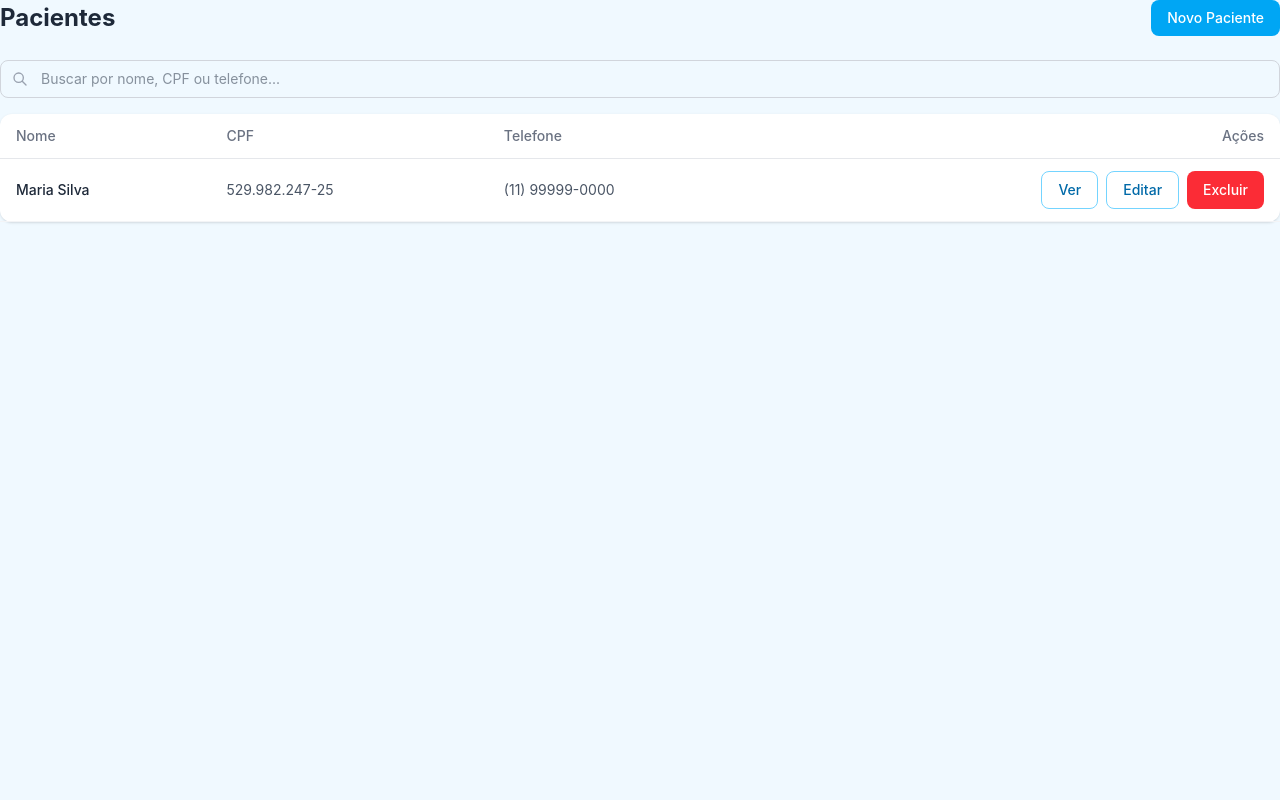
Scenario: PatientList › removes a patient from the table on delete
The width and height of the screenshot is (1280, 800).
expect the text "Maria Silva" is shown: met, box [0,158,210,222]
Click the button "Excluir" at coordinates (1226, 190), box [1187,171,1264,209]
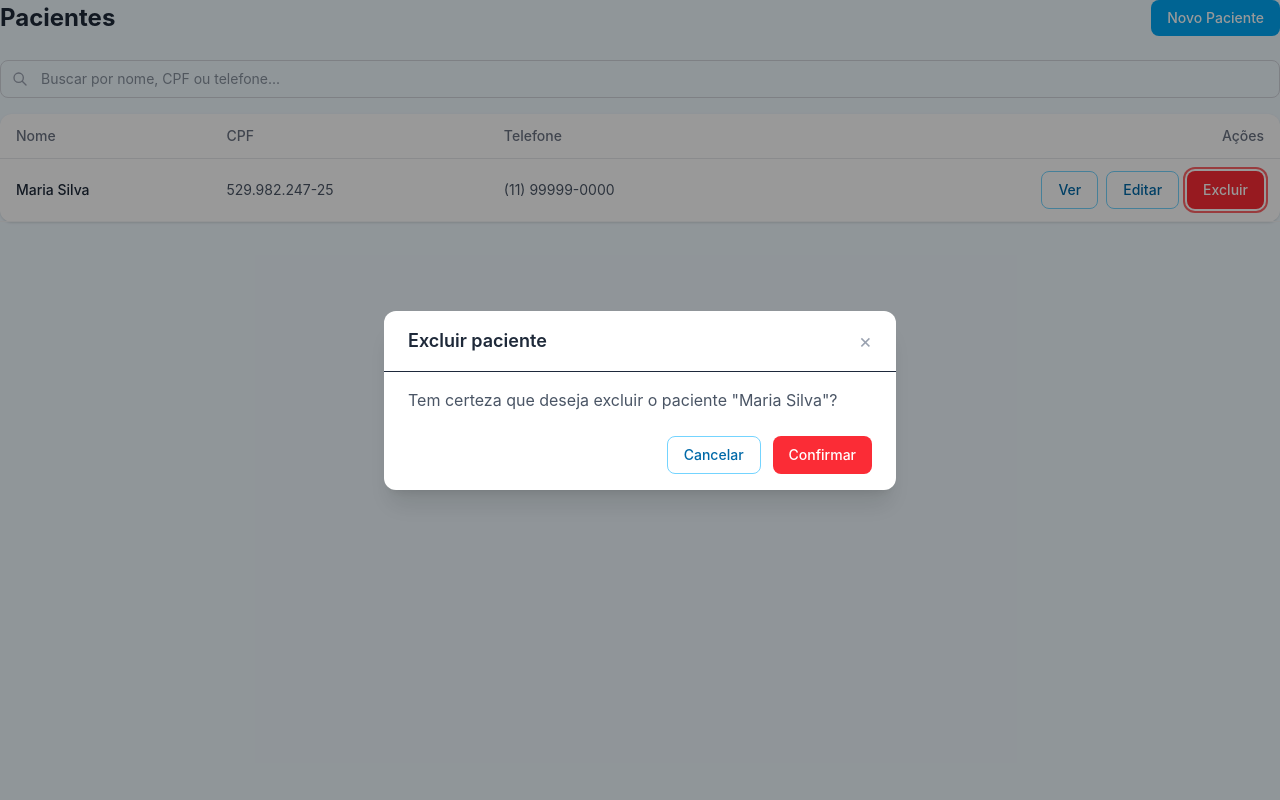
Click the button "Confirmar" at coordinates (822, 454), box [773,436,872,474]
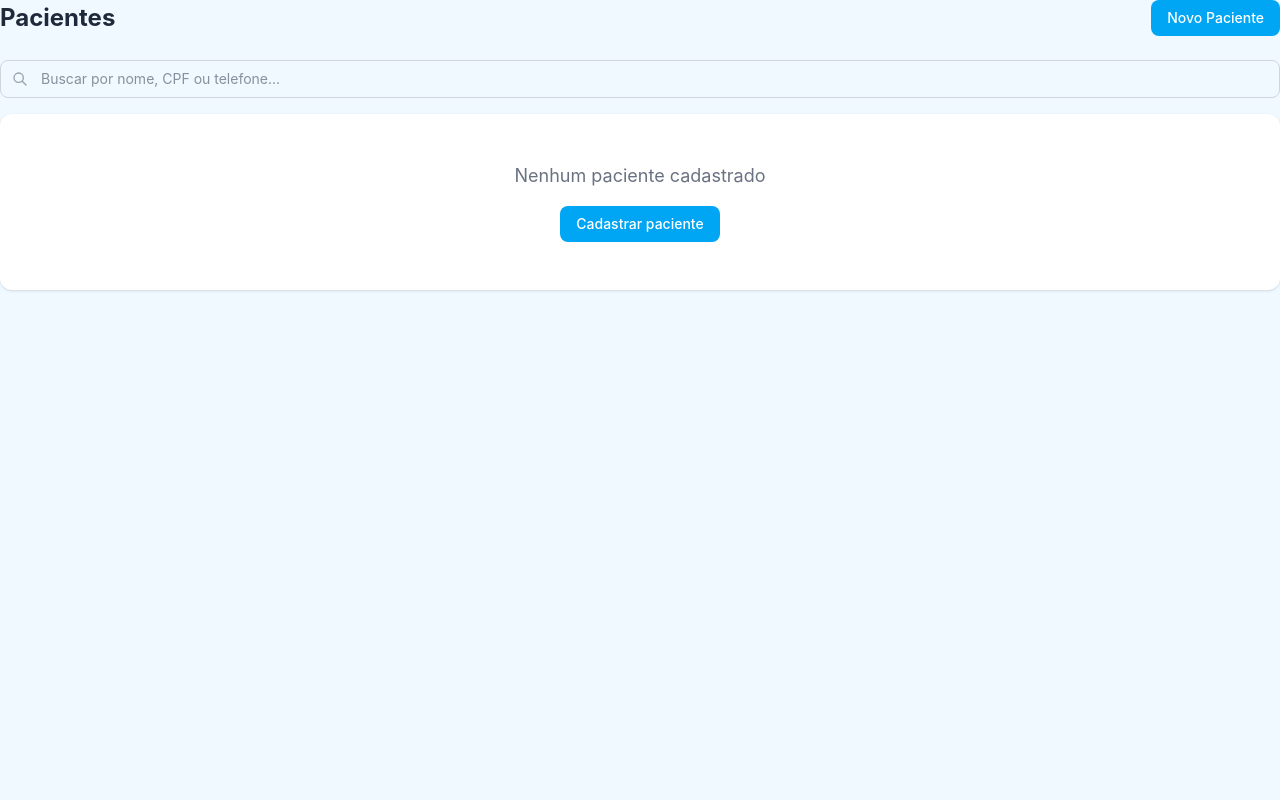
expect the text "Maria Silva" is gone: met
